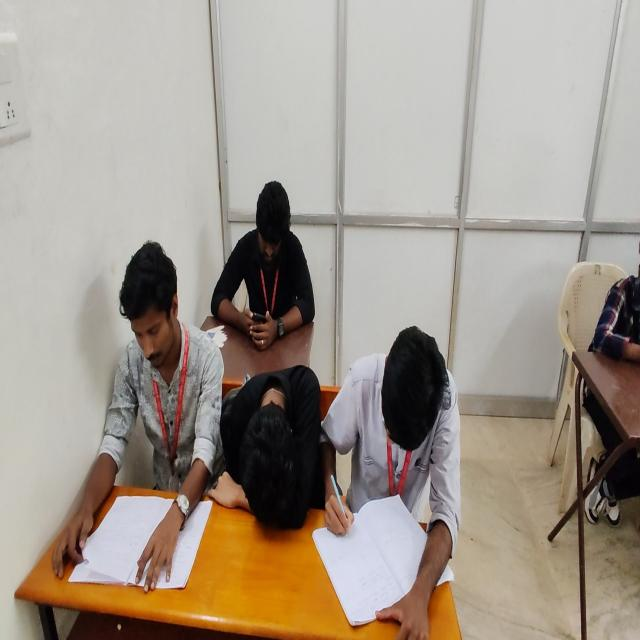reading: (52, 242, 230, 596), (321, 326, 459, 640)
sleeping: (210, 361, 328, 535)
using_mobile: (209, 180, 315, 347)
